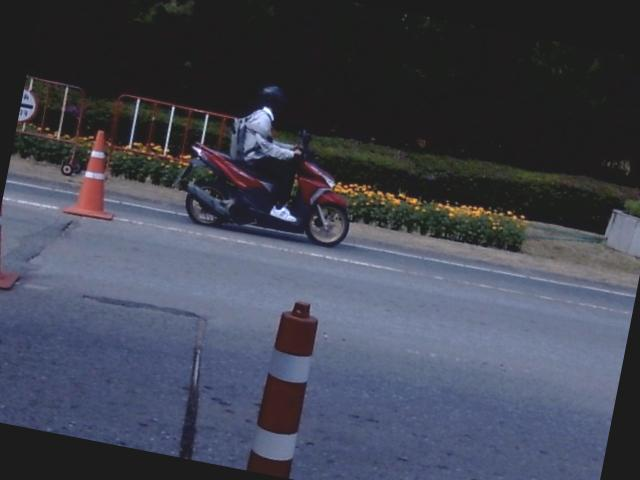helmet: (258, 84, 283, 111)
motor: (176, 131, 348, 246)
person: (233, 86, 301, 221)
